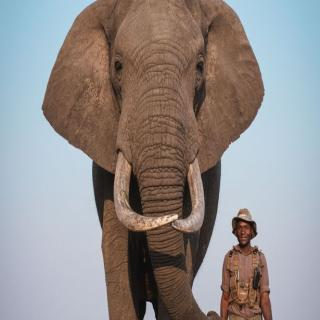Elephant: (42, 0, 266, 320)
